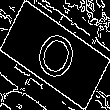O_SW: (28, 22, 82, 88)
